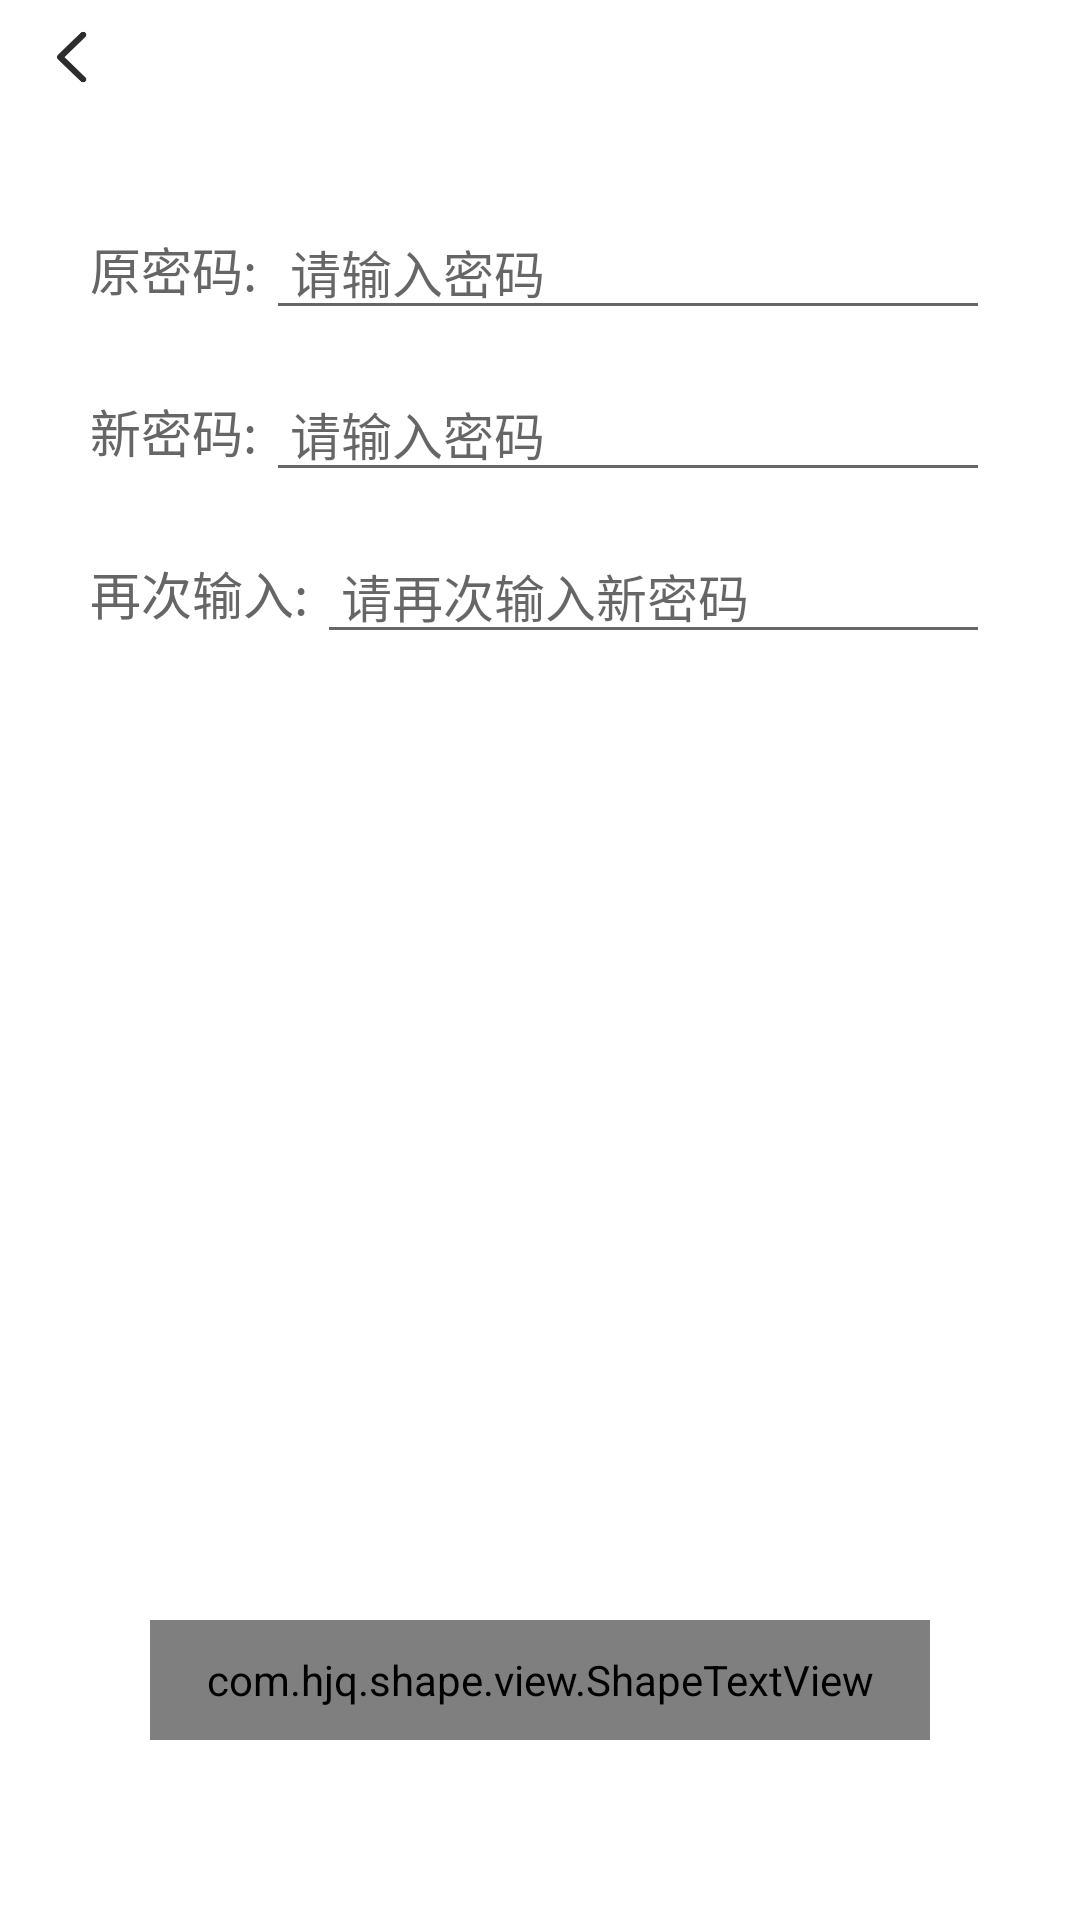

Point at icon controls on the screen. Image size 1080px x 1920px, points as [x,y].
title back: [72,57]
